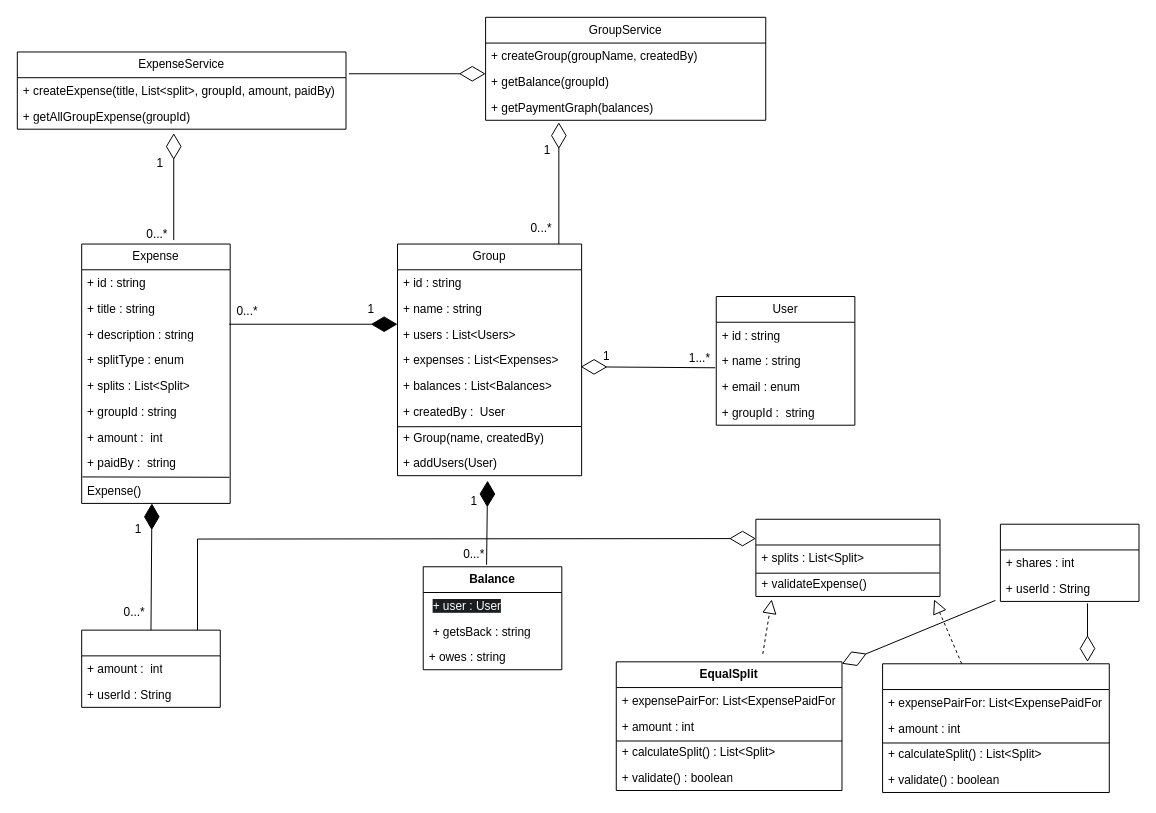
Some shapes in this 1156 by 813 pixel diagram are drawn without their labels. The shapes that lost their labels are listed below. From the top down, each one's box as (x1, y1, x2, y2) in pixels, then its label:
(755, 518, 940, 596): <<ExpenseSplit>>
(999, 523, 1139, 601): ExpensePaidFor
(81, 629, 220, 707): Split
(882, 663, 1109, 792): UnEqualSplit
